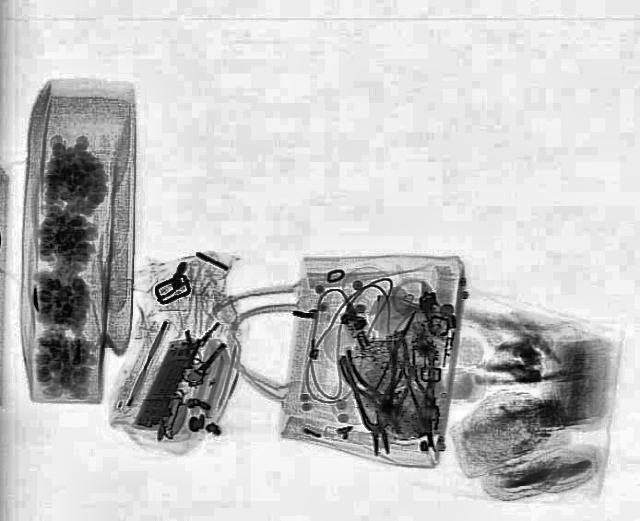Pliers: (337, 344, 411, 456)
